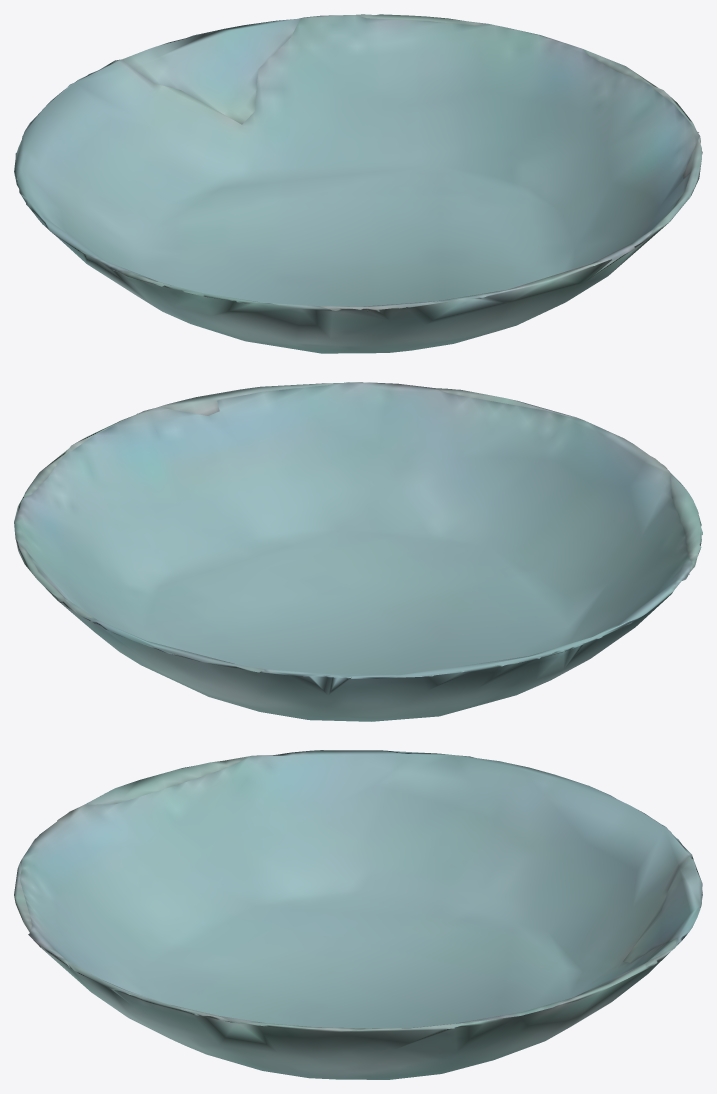
The model's file is Ecoforms_Plant_Plate_S11Turquoise-medium.glb.
The picture shows the model from 3 angles, top to bottom: view 1: azimuth 30°, elevation 25°; view 2: azimuth 150°, elevation 25°; view 3: azimuth 270°, elevation 25°; orthographic projection.
Visible parts, largest first — view 1: Ecoforms_Plant_Plate_S11Turquoise; view 2: Ecoforms_Plant_Plate_S11Turquoise; view 3: Ecoforms_Plant_Plate_S11Turquoise.
Part boxes in pixels (box(x1,y1,x2,y2)): Ecoforms_Plant_Plate_S11Turquoise: box(14, 14, 702, 353); Ecoforms_Plant_Plate_S11Turquoise: box(14, 382, 702, 721); Ecoforms_Plant_Plate_S11Turquoise: box(14, 750, 702, 1079).
Bounding box in the file's own units: 0.118 × 0.0227 × 0.1181.
1 material, 1 textured.
